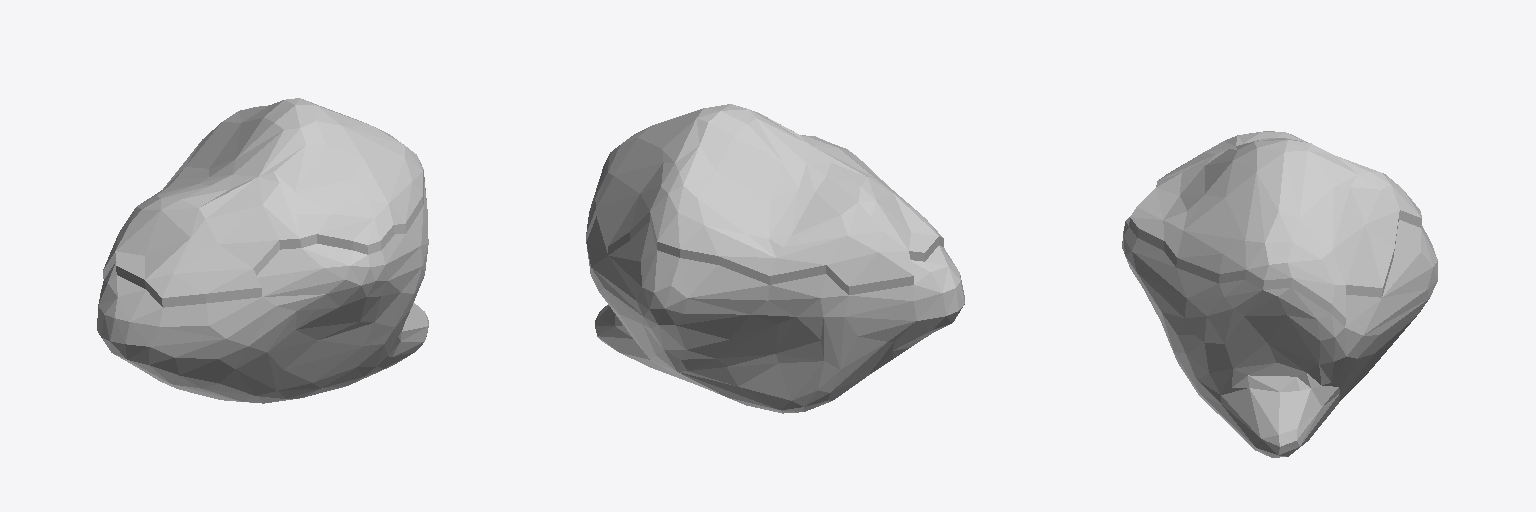
Rendered from rock1.obj.
The picture shows the model from 3 angles: view 1: azimuth 30°, elevation 25°; view 2: azimuth 150°, elevation 25°; view 3: azimuth 270°, elevation 25°; orthographic projection.
Visible parts, largest first — view 1: Rock1_Cube.005; view 2: Rock1_Cube.005; view 3: Rock1_Cube.005.
Boxes of the visible parts, x1=… form: Rock1_Cube.005: x1=97, y1=98, x2=428, y2=403; Rock1_Cube.005: x1=586, y1=104, x2=964, y2=413; Rock1_Cube.005: x1=1122, y1=131, x2=1437, y2=457.
Size of the model in its own units: 2.65 by 2.01 by 2.1.